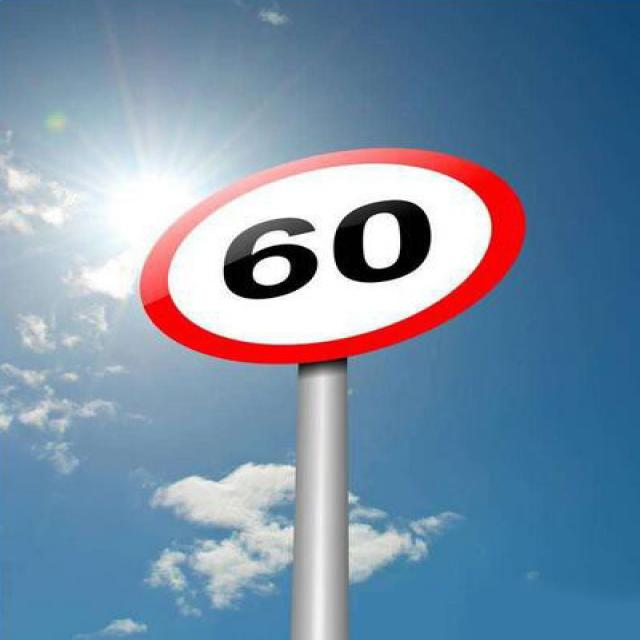speed limit 60: (136, 146, 528, 362)
